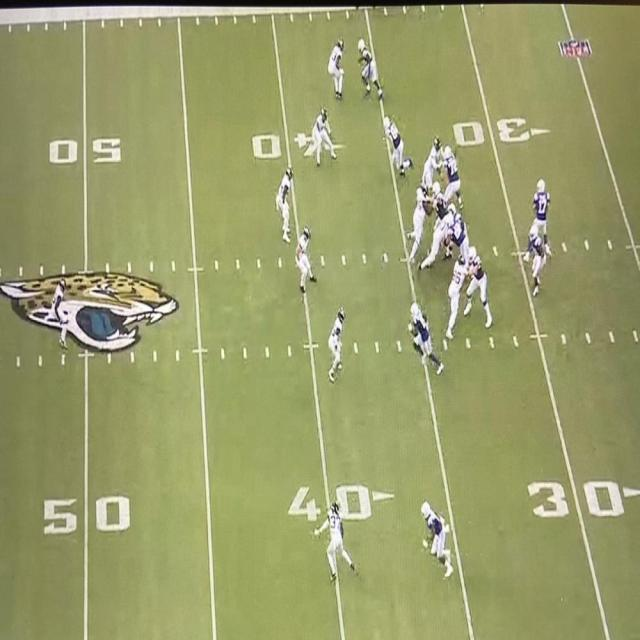center: (431, 181, 446, 216)
db: (322, 500, 356, 578), (51, 279, 69, 348), (313, 108, 334, 161), (330, 307, 345, 380), (330, 38, 345, 98)
lb: (278, 164, 294, 245), (298, 226, 315, 290)
qb: (536, 177, 548, 231)
skill: (423, 504, 453, 580), (412, 304, 442, 374), (382, 116, 411, 176), (357, 39, 383, 98), (530, 225, 543, 291)
